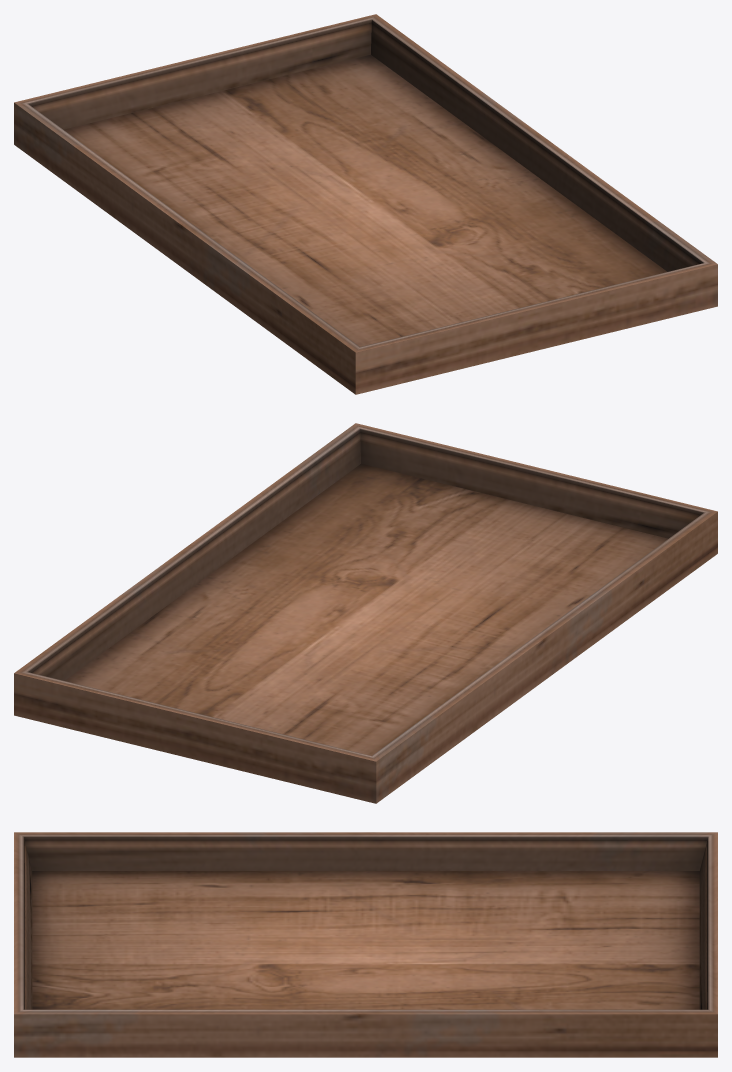
Rendered from Tea_1.FBX.
3 views of the same model, one above another, from view 1: azimuth 30°, elevation 25°; view 2: azimuth 150°, elevation 25°; view 3: azimuth 270°, elevation 25° (orthographic). The views are drawn at different scales.
Visible parts, largest first — view 1: tea1; view 2: tea1; view 3: tea1.
Boxes of the visible parts, bbox=[...] form: tea1: bbox=[14, 14, 717, 394]; tea1: bbox=[14, 423, 717, 803]; tea1: bbox=[14, 832, 717, 1057].
Size of the model in its own units: 22.85 by 2.54 by 37.34.
